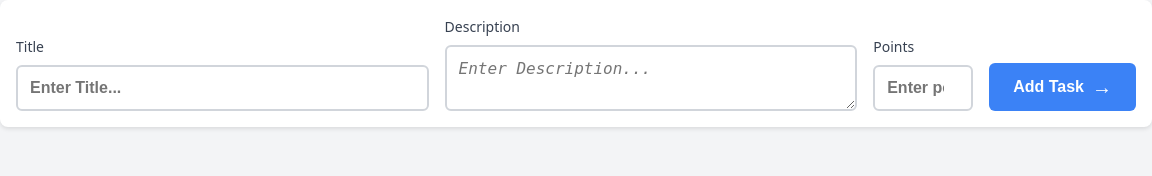
Test: EntryForm › validates required fields
Click the button with test id "entry-form-submit" at x=1063, y=87, box [989,63,1136,111]
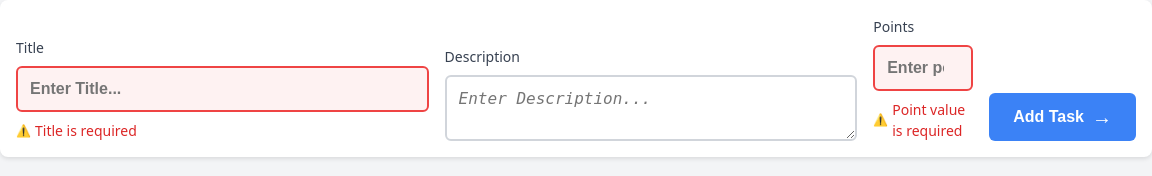
Expected: the text "Title is required" is shown, [35,121,137,140]
Expected: the text "Point value is required" is shown, [873,99,973,141]
